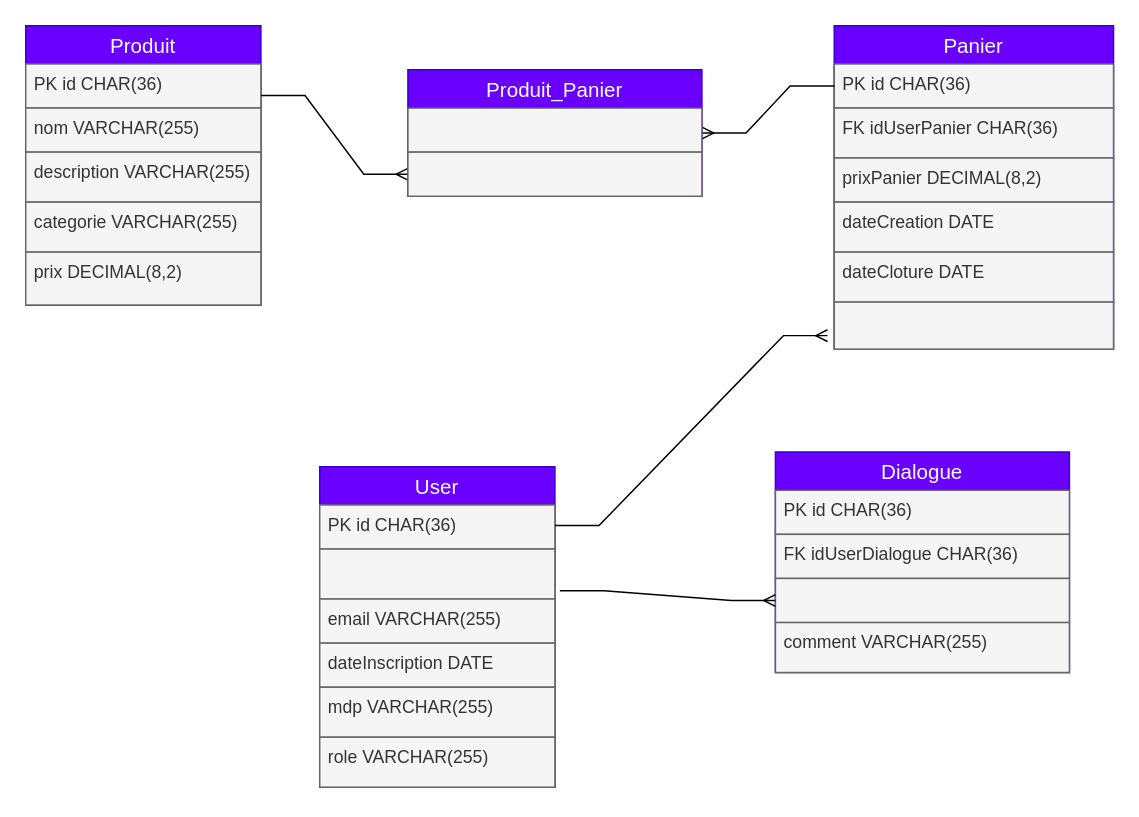
This 1139x817 diagram has some shape labels left out. The centre of each missing label's shape, as x and y in pixels:
date DATE: point (921, 600)
FK idPanier CHAR(36): point (554, 129)
FK idProduit CHAR(36): point (554, 173)
pseudo VARCHAR(255): point (436, 573)
status VARCHAR(255): point (973, 325)
